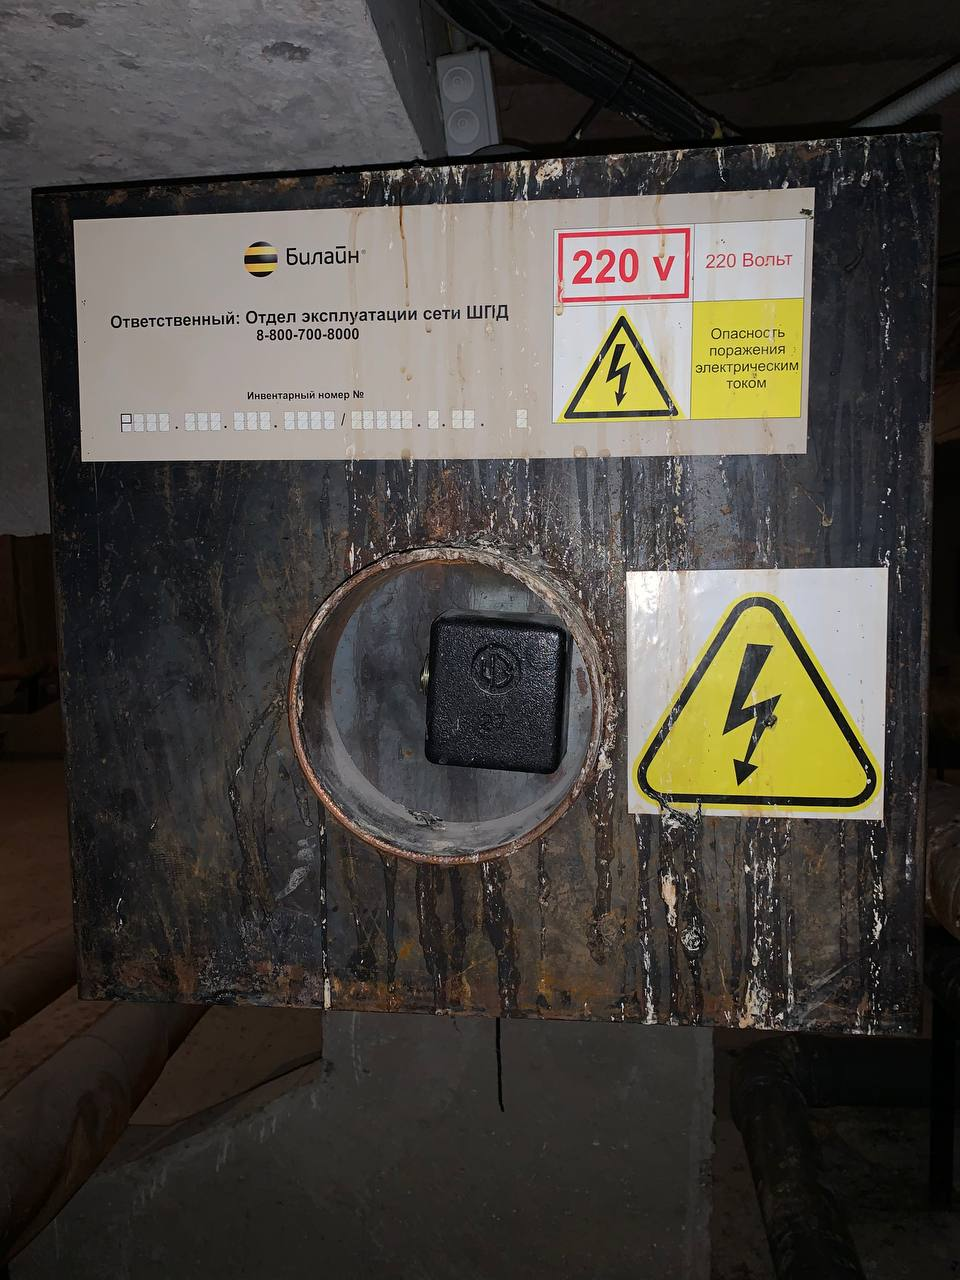shta-9: (20, 129, 944, 1048)
